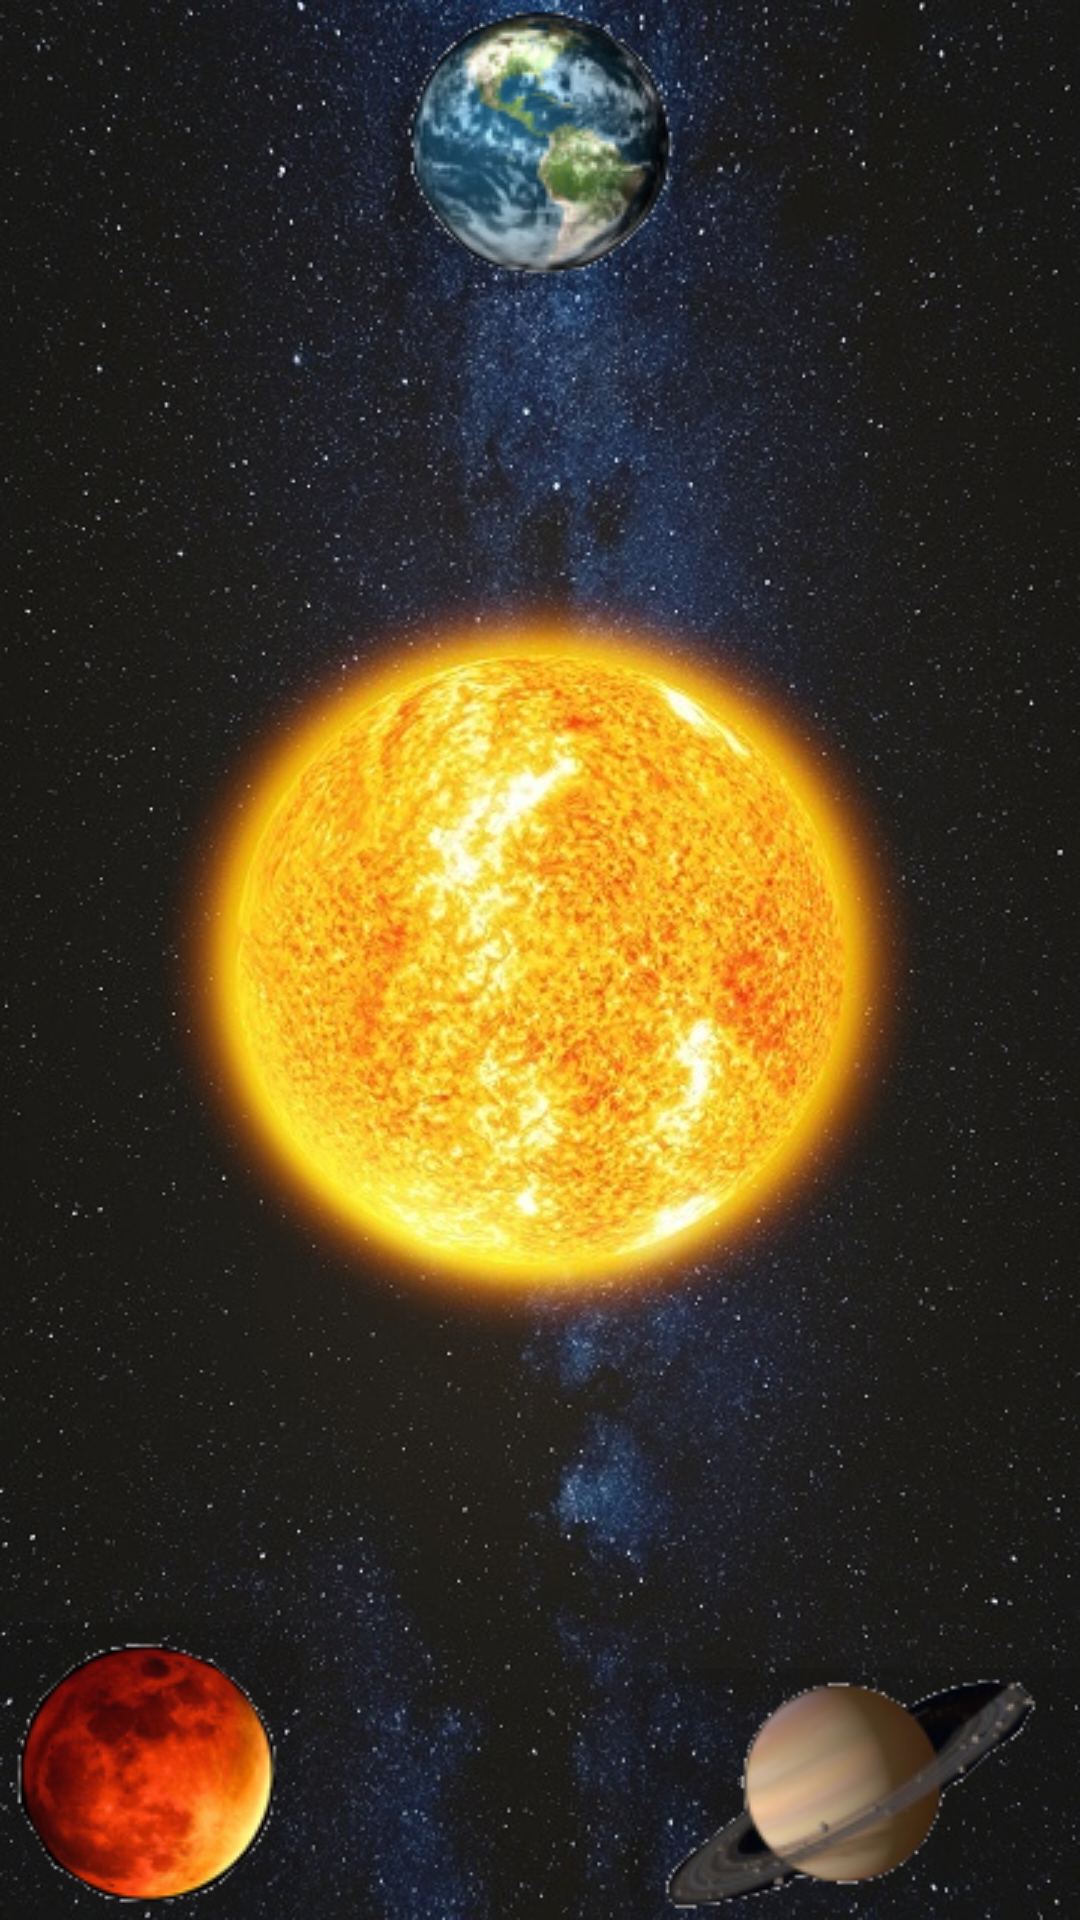

Icon bounding boxes for this 1080x1920 phone screenshot, format (x1, y1, x2, y2):
earth animation: (390, 0, 690, 291)
mars animation: (0, 1623, 300, 1920)
